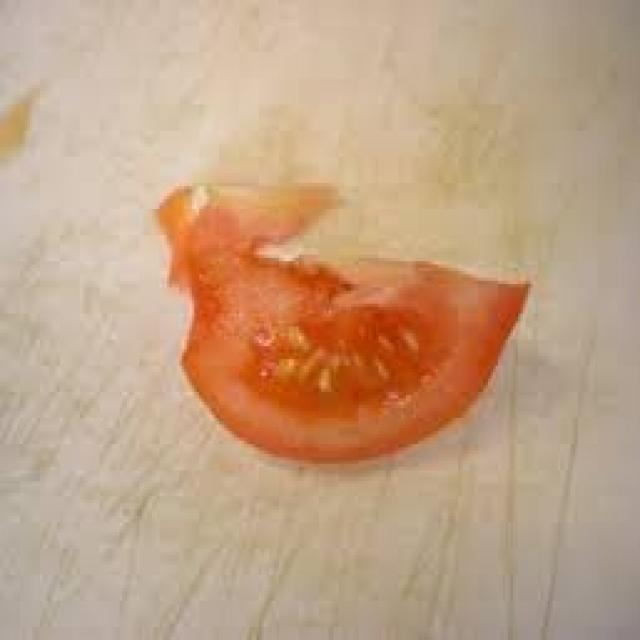organic waste: (157, 183, 528, 464)
